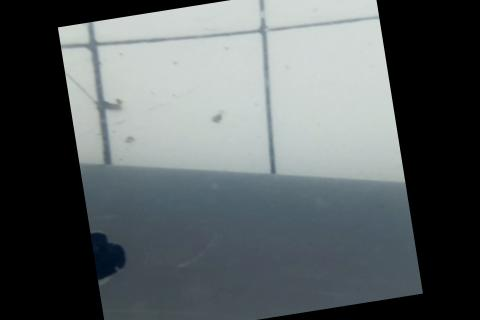kebocoran: (89, 225, 132, 286)
